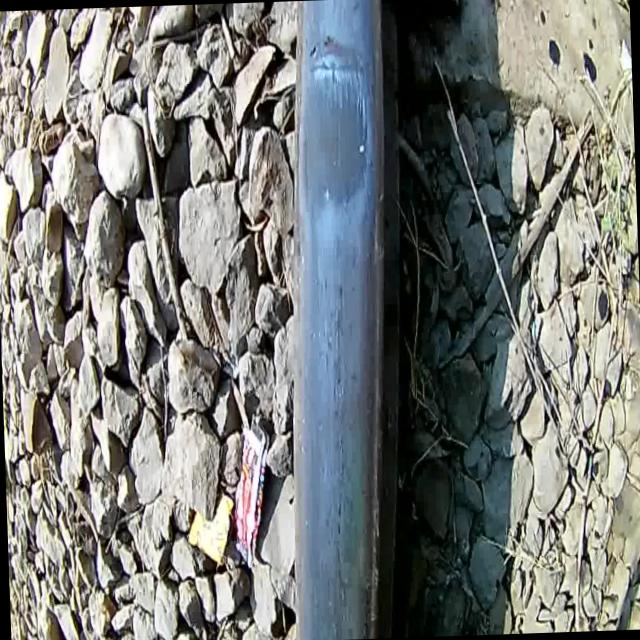Squats: (250, 0, 427, 640)
